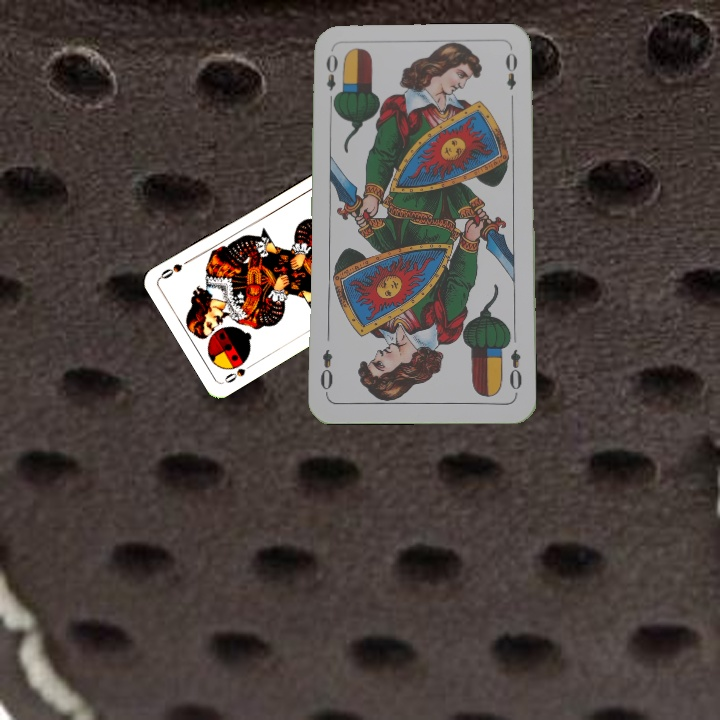EO: (322, 50, 341, 108), (505, 345, 525, 392)
SO: (220, 360, 256, 386)
